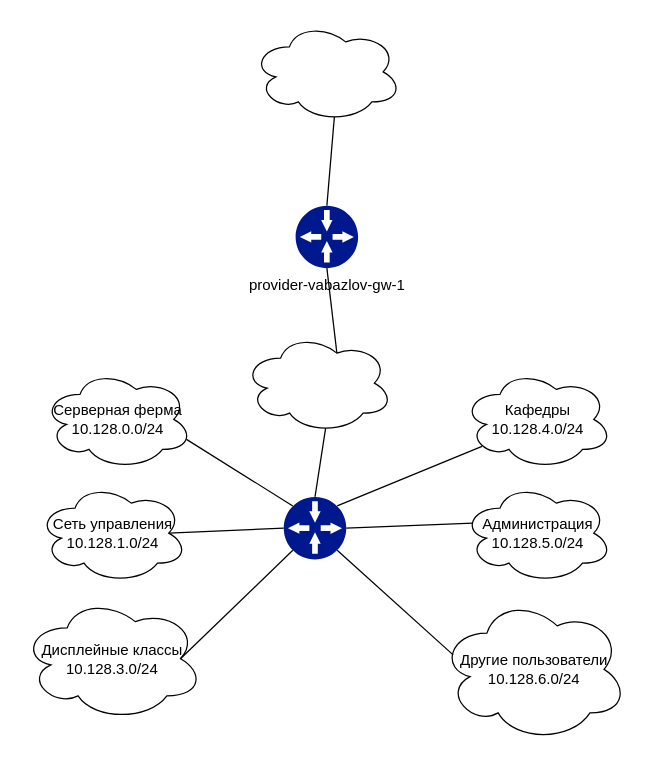
Some shapes in this 650 by 764 pixel diagram are drawn without their labels. Each missing label, with the box of its shape:
msk-donskaya-vabazlov-gw-1: (283, 496, 346, 559)
Интернет 192.0.2.0/24: (251, 21, 402, 122)
Провайдер 198.51.100.0/24: (242, 332, 393, 433)
